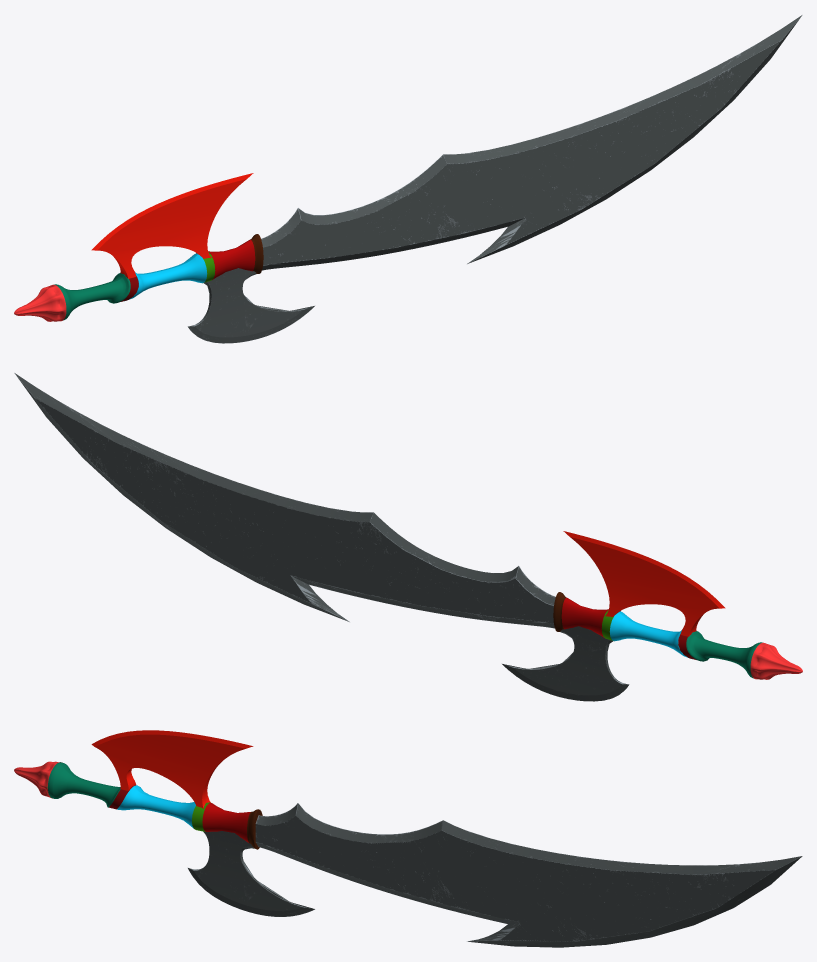
Rendered from Unlvl_GreatSword.FBX.
3 views of the same model, one above another, from view 1: azimuth 30°, elevation 25°; view 2: azimuth 150°, elevation 25°; view 3: azimuth 330°, elevation 25° (orthographic).
Parts seen in each view (by area): view 1: 物件_11, 物件_14, 物件_1, 物件_8, 物件_6, 物件_10, 物件_7; view 2: 物件_11, 物件_14, 物件_1, 物件_8, 物件_6, 物件_10, 物件_7; view 3: 物件_11, 物件_14, 物件_1, 物件_8, 物件_6, 物件_7, 物件_10.
Part boxes in pixels (x1,y1,x2,y2): 物件_11: (261,15,802,270); 物件_14: (91,173,253,278); 物件_1: (187,268,314,343); 物件_8: (54,273,130,320); 物件_6: (124,253,207,301); 物件_10: (14,284,66,321); 物件_7: (208,239,255,279); 物件_11: (14,373,555,628); 物件_14: (563,531,725,636); 物件_1: (502,626,628,701); 物件_8: (686,631,762,678); 物件_6: (609,611,692,659); 物件_10: (750,642,802,679); 物件_7: (561,597,608,637); 物件_11: (255,803,802,947); 物件_14: (91,730,253,808); 物件_1: (188,831,314,916); 物件_8: (48,762,120,807); 物件_6: (117,785,195,828); 物件_7: (202,802,250,842); 物件_10: (14,761,60,798).
Size of the model in its own units: 1.81 by 0.0746 by 0.4201.
